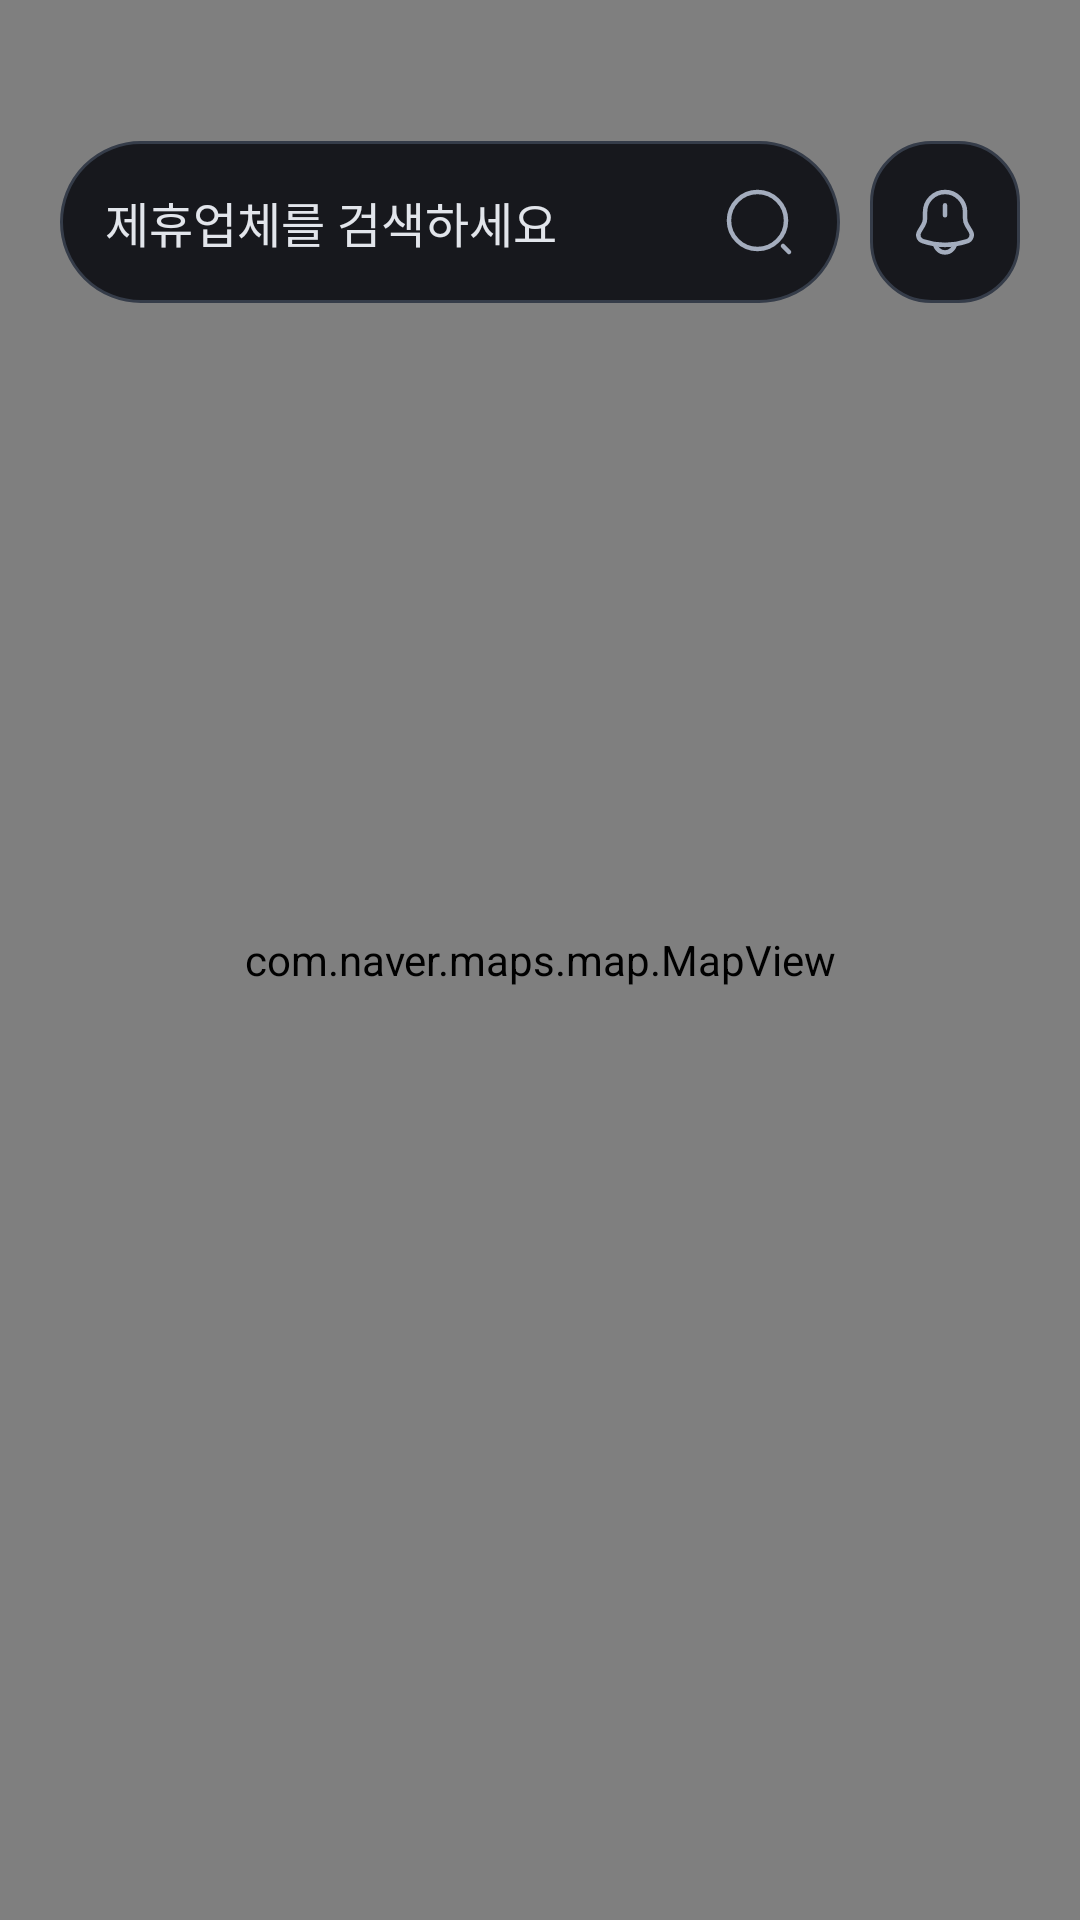

Named icons in this screenshot (1080px x 1920px) and their bounding boxes, [x1, y1, x2, y2]:
notification: [870, 141, 1020, 303]
